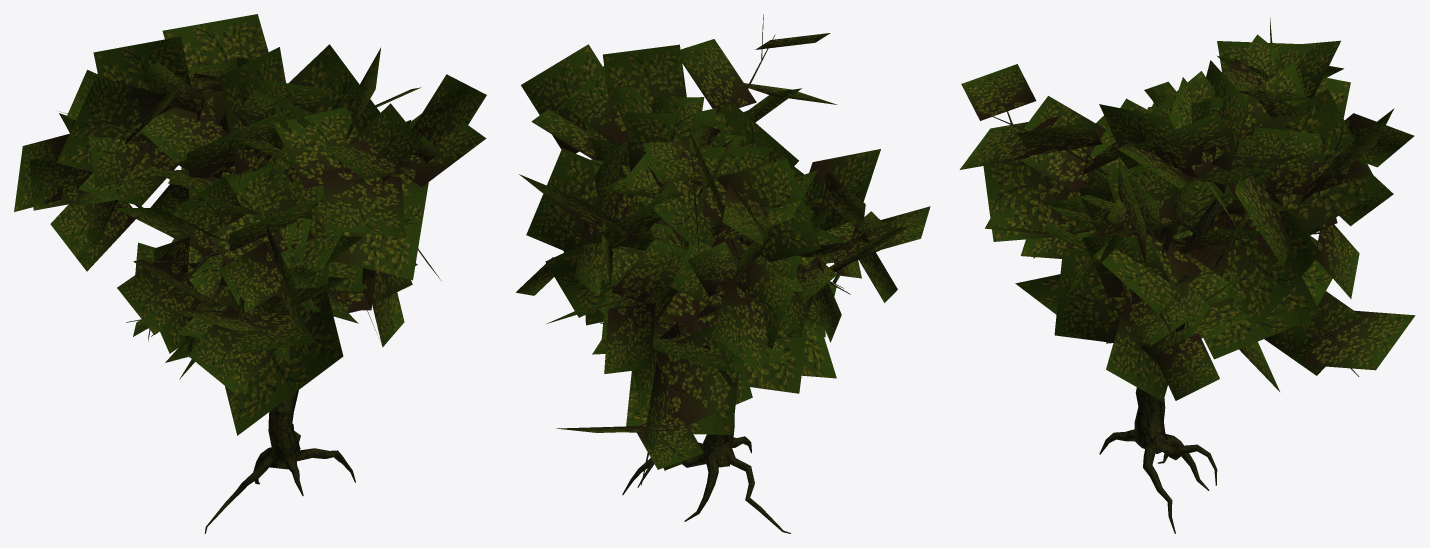
The model's file is DeadTree_1.fbx.
The picture shows the model from 3 angles, left to right: view 1: azimuth 30°, elevation 25°; view 2: azimuth 150°, elevation 25°; view 3: azimuth 270°, elevation 25°; orthographic projection.
Visible parts, largest first — view 1: DeadTree_1; view 2: DeadTree_1; view 3: DeadTree_1.
Boxes of the visible parts, x1,y1,x2,y2 form: DeadTree_1: [14, 14, 486, 533]; DeadTree_1: [516, 14, 930, 533]; DeadTree_1: [959, 18, 1415, 533].
Size of the model in its own units: 1219 by 1385 by 1312.
